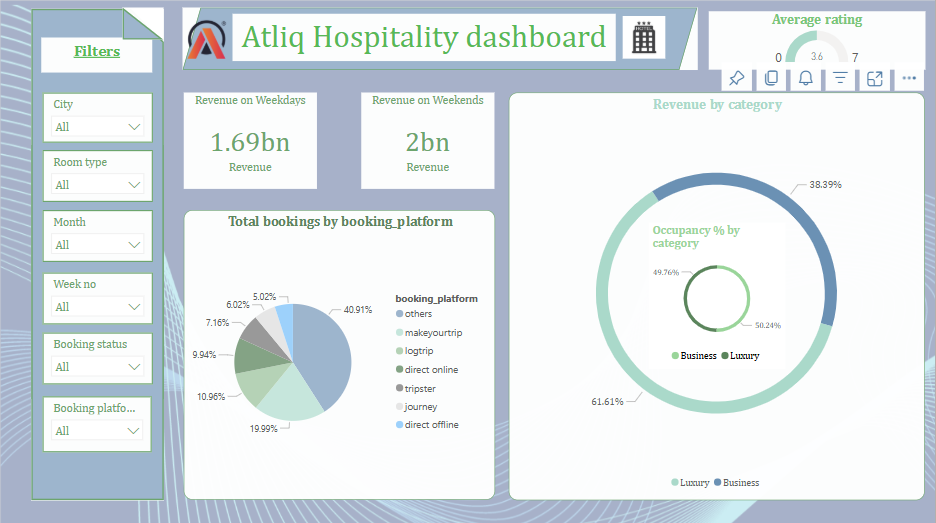

This screenshot's page, from the dashboard's own definition file:
{"tool":"powerbi","page":{"name":"Revenue","canvas":[1280,720],"ordinal":0},"visuals":[{"type":"donutChart","fields":{"Y":["dim_date.Revenue"],"Category":["dim_hotels.category"]},"box":[696.4,126.2,570.2,509.5],"z":0},{"type":"shape","box":[250,10.7,706,85.7],"z":1000},{"type":"textbox","box":[318.5,19.3,524.8,65.1],"z":2000},{"type":"image","box":[250.7,21.9,67.1,63],"z":3000},{"type":"image","box":[843.8,16.4,76.7,68.5],"z":4000},{"type":"shape","box":[42.3,11.3,181.7,673.2],"z":5000},{"type":"textbox","box":[56.3,50.8,152.3,48],"z":6000},{"type":"slicer","fields":{"Values":["dim_hotels.City"]},"box":[59,126.2,150.9,68.6],"z":7000},{"type":"slicer","fields":{"Values":["dim_rooms.room_class"]},"box":[57.6,205.8,150.9,71.4],"z":8000},{"type":"slicer","fields":{"Values":["fact_bookings.checkout_date.Variation.Date Hierarchy.Month"]},"box":[57.6,288.2,150.9,71.4],"z":9000},{"type":"slicer","fields":{"Values":["dim_date.week no"]},"box":[57.6,373.2,150.9,71.4],"z":10000},{"type":"slicer","fields":{"Values":["fact_bookings.booking_platform"]},"box":[59,542,149.6,76.8],"z":11000},{"type":"slicer","fields":{"Values":["fact_bookings.booking_status"]},"box":[59,455.6,150.9,71.4],"z":12000},{"type":"gauge","fields":{"Y":["dim_date.Average rating"]},"box":[970.2,15.5,296.4,79.8],"z":13000},{"type":"donutChart","fields":{"Y":["dim_date.Occupancy %"],"Category":["dim_hotels.category"]},"box":[890.5,272.6,183.3,203.6],"z":14000},{"type":"pieChart","fields":{"Y":["dim_date.Total bookings"],"Category":["fact_bookings.booking_platform"]},"box":[251.2,288.1,426.2,340.5],"z":15000},{"type":"card","title":"Revenue on Weekdays","fields":{"Values":["dim_date.Revenue"]},"box":[251.2,126.2,182.1,132.1],"z":16000},{"type":"card","title":"Revenue on Weekends","fields":{"Values":["dim_date.Revenue"]},"box":[495.2,126.2,182.1,132.1],"z":17000},{"type":"shape","box":[167.9,10.7,56,44],"z":18000}]}

Visuals, with their boxes on the page's 1280x720 design canvas (x1, y1, x2, y2). These are canvas units, not pixel positions in the 936x523 screenshot, which may show the page scaled, cropped or inside an application window:
donutChart - dim_date.Revenue x dim_hotels.category: (696,126,1267,636)
shape: (250,11,956,96)
textbox: (318,19,843,84)
image: (251,22,318,85)
image: (844,16,920,85)
shape: (42,11,224,684)
textbox: (56,51,209,99)
slicer - dim_hotels.City: (59,126,210,195)
slicer - dim_rooms.room_class: (58,206,208,277)
slicer - fact_bookings.checkout_date.Variation.Date Hierarchy.Month: (58,288,208,360)
slicer - dim_date.week no: (58,373,208,445)
slicer - fact_bookings.booking_platform: (59,542,209,619)
slicer - fact_bookings.booking_status: (59,456,210,527)
gauge - dim_date.Average rating: (970,16,1267,95)
donutChart - dim_date.Occupancy % x dim_hotels.category: (890,273,1074,476)
pieChart - dim_date.Total bookings x fact_bookings.booking_platform: (251,288,677,629)
"Revenue on Weekdays" card: (251,126,433,258)
"Revenue on Weekends" card: (495,126,677,258)
shape: (168,11,224,55)
